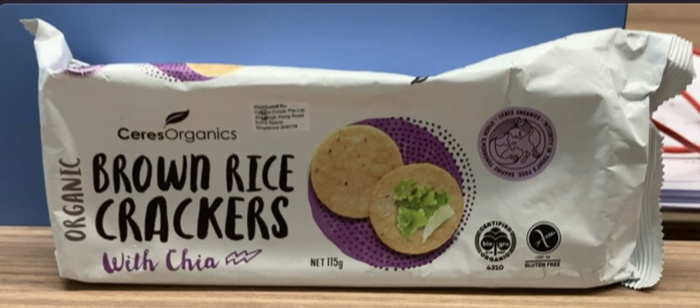crackers_150g: (57, 74, 598, 273)
